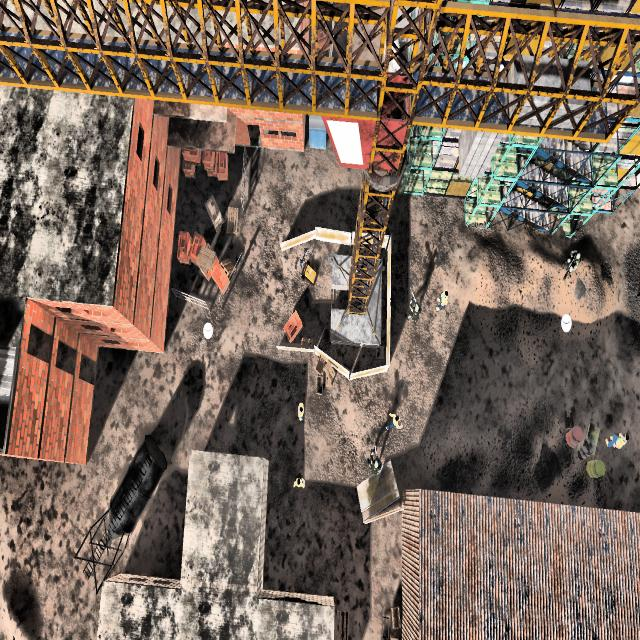bad: (560, 239, 586, 286), (405, 285, 424, 331), (366, 443, 387, 483)
good: (599, 421, 629, 454), (426, 286, 452, 317), (289, 462, 309, 497), (387, 404, 404, 441), (290, 396, 308, 423)
